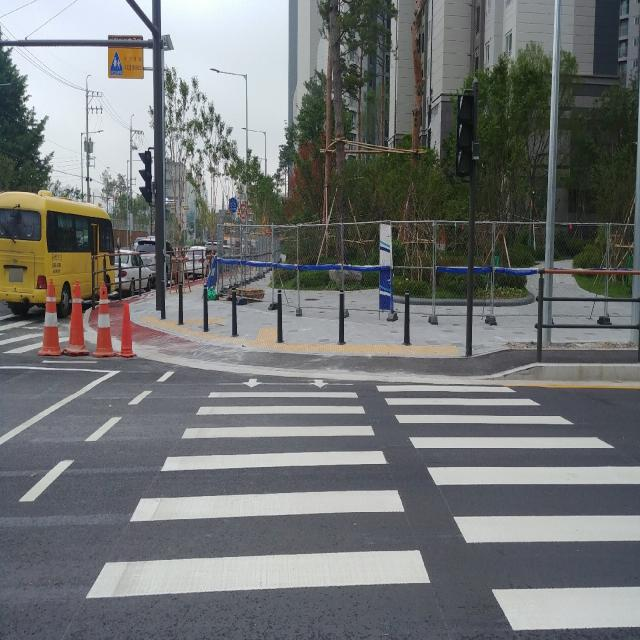횡단보도: (86, 379, 640, 639)
